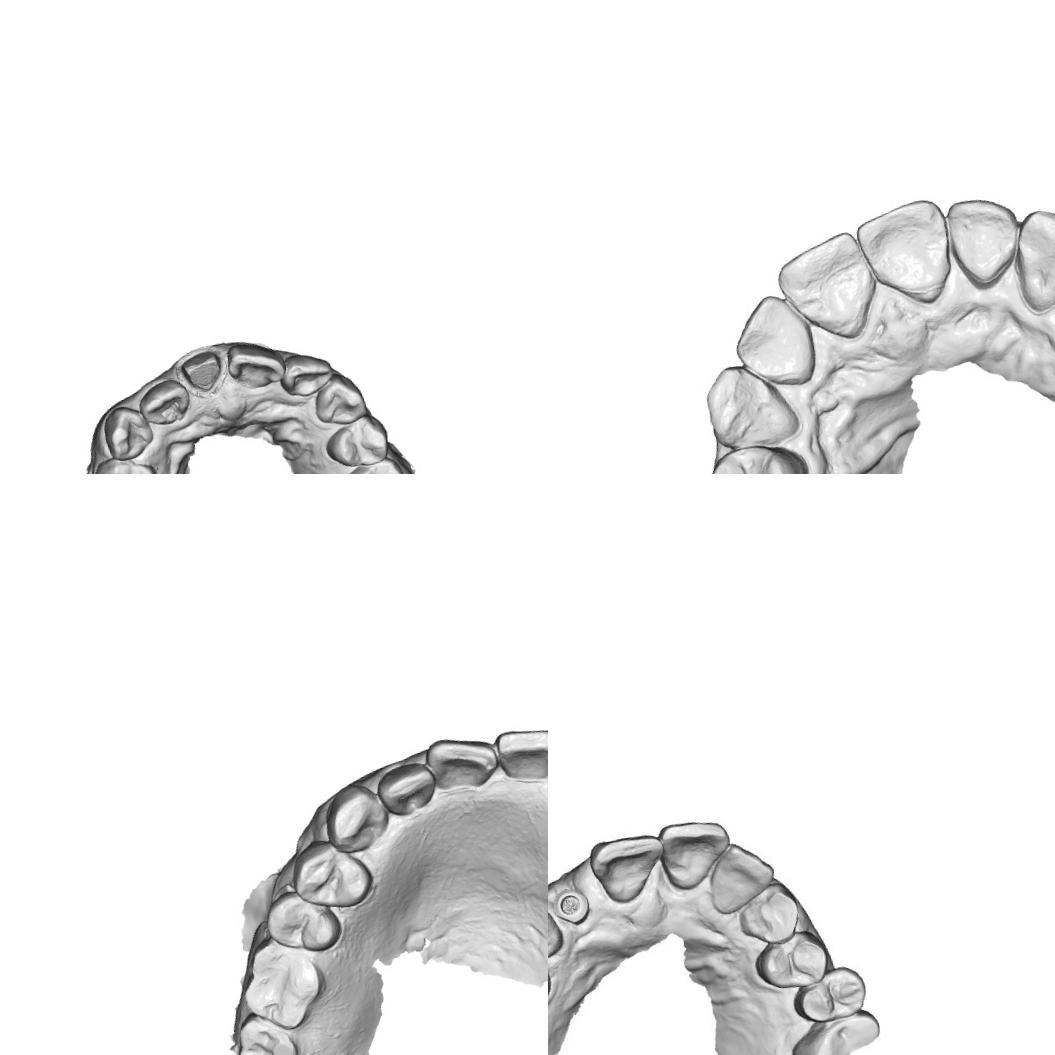canine: (698, 355, 802, 456), (318, 775, 390, 856), (1007, 202, 1055, 316), (310, 368, 372, 430), (98, 401, 158, 464), (740, 888, 798, 942), (548, 897, 569, 975)
crown: (176, 346, 230, 398)
implant: (548, 875, 598, 935)
incisor: (768, 228, 883, 350), (850, 193, 962, 314), (728, 287, 820, 395), (945, 188, 1026, 293), (698, 834, 782, 918), (589, 830, 669, 906), (424, 730, 500, 804), (658, 816, 732, 890), (374, 758, 441, 818), (222, 335, 289, 394), (494, 721, 548, 786), (133, 375, 194, 430), (276, 346, 338, 400)
molar: (238, 935, 326, 1031), (230, 1016, 301, 1055)
premolar: (292, 839, 380, 916), (746, 931, 834, 996), (788, 963, 872, 1029), (267, 890, 340, 954), (319, 411, 392, 472), (699, 436, 813, 474), (88, 450, 164, 474), (337, 454, 408, 474)
